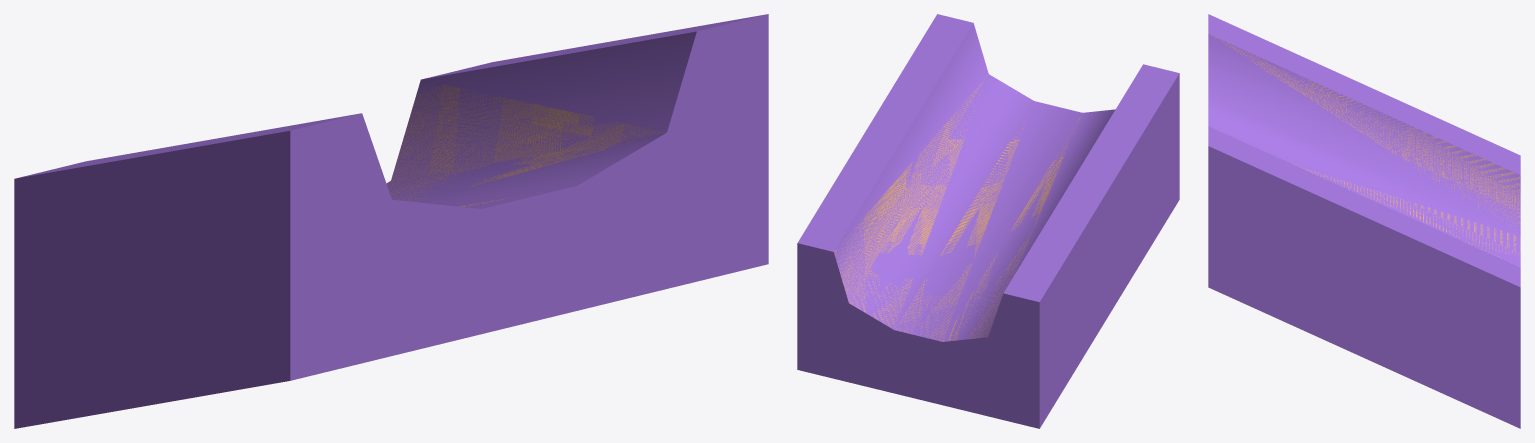
The model's file is slant-b.glb.
3 renders of one model, left to right at view 1: azimuth 30°, elevation 25°; view 2: azimuth 150°, elevation 25°; view 3: azimuth 270°, elevation 25°, orthographic. The views are drawn at different scales.
Visible parts, largest first — view 1: slant-b; view 2: slant-b; view 3: slant-b.
Boxes of the visible parts, bbox=[...] form: slant-b: bbox=[14, 14, 768, 428]; slant-b: bbox=[797, 14, 1179, 428]; slant-b: bbox=[1208, 14, 1520, 428].
Bounding box in the file's own units: 1 × 1 × 1.
1 material, 1 textured.
